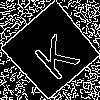K: (25, 26, 81, 83)
